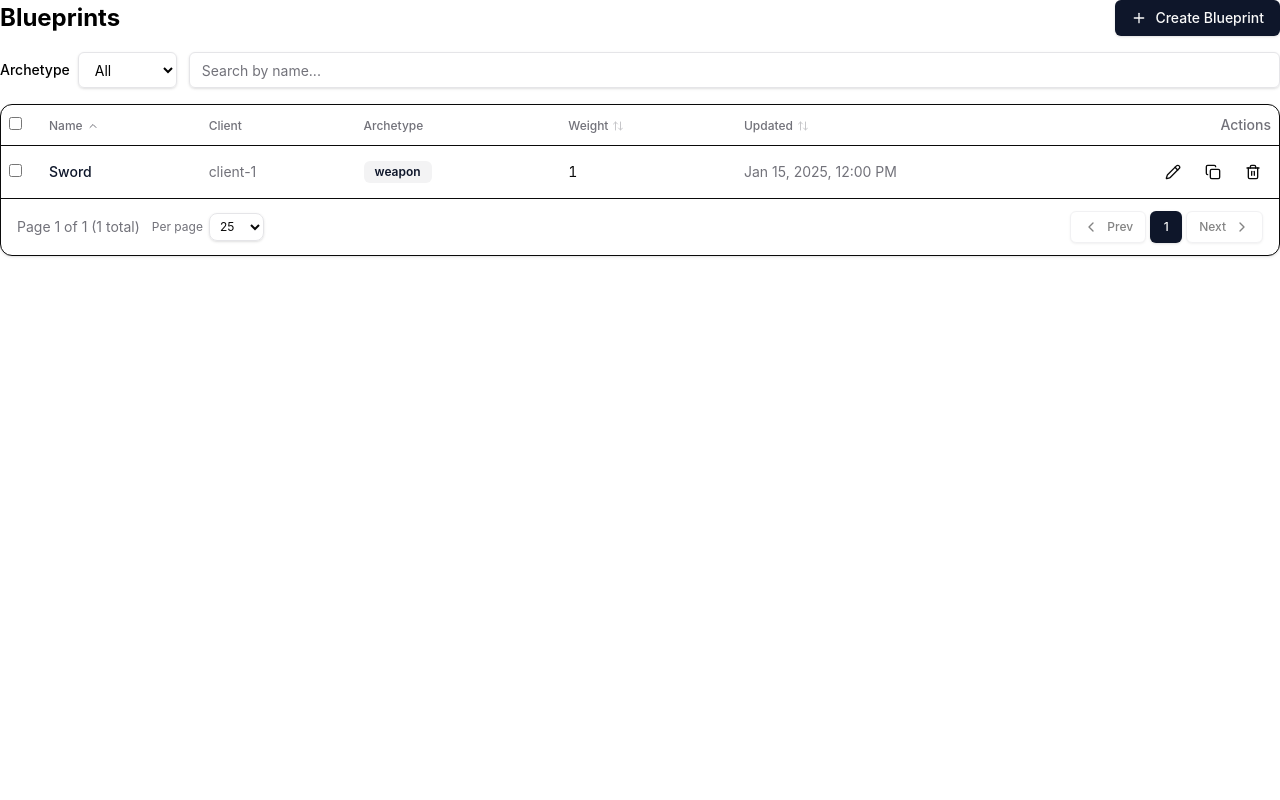
Test: Blueprints list page › opens edit dialog when Edit is clicked
What coordinates should you click on to do the following:
click the button named "Edit Sword"
I would click on:
 (1173, 172)
Its box is x1=1155 y1=154 x2=1191 y2=190.
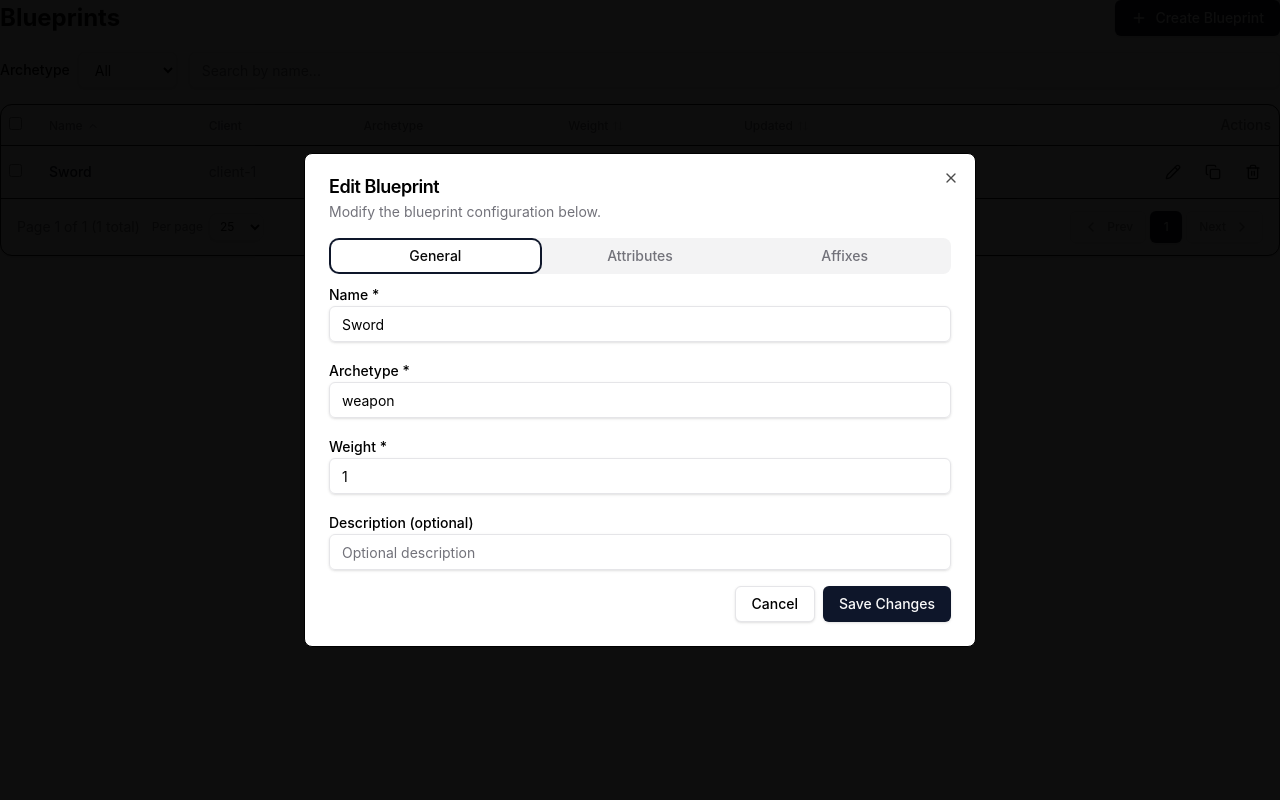
Now the heading "Edit Blueprint" is shown, box x1=329 y1=176 x2=439 y2=197
